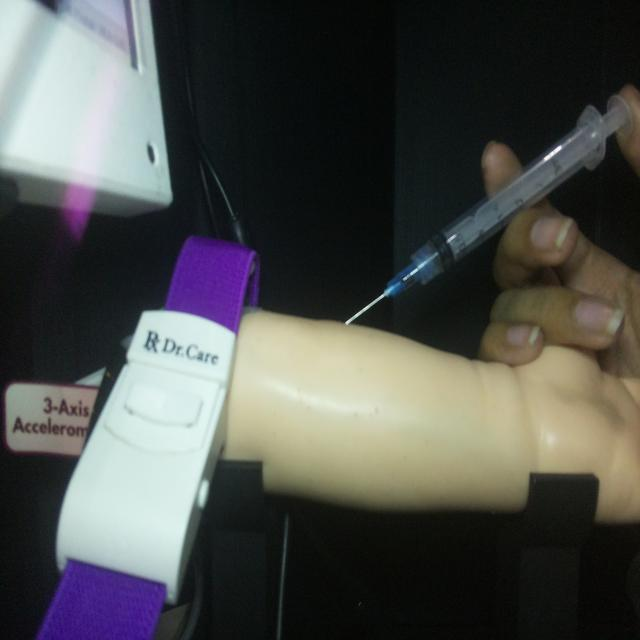29 degrees: (343, 86, 632, 328)
